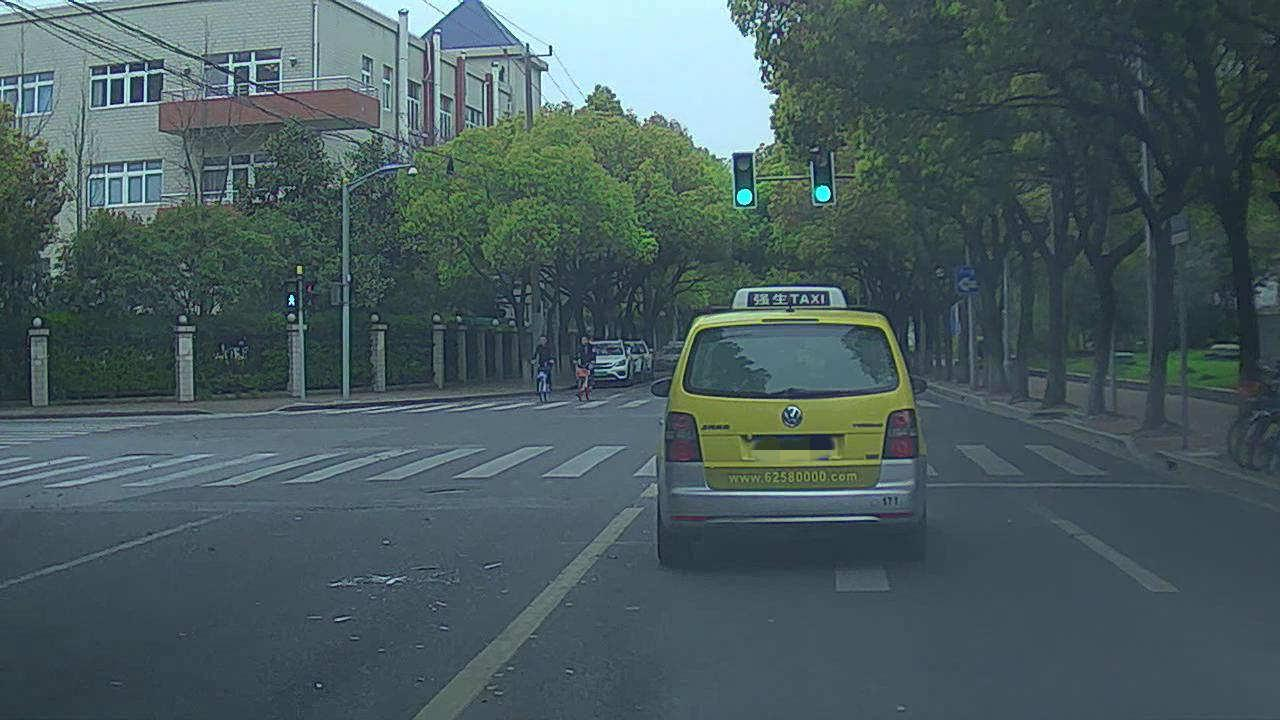traffic_light: (729, 153, 756, 207), (811, 150, 836, 204)
